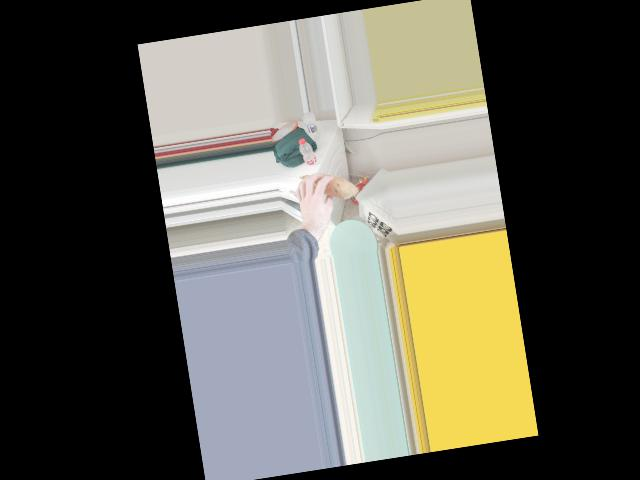sweet_potato: (297, 168, 353, 201)
